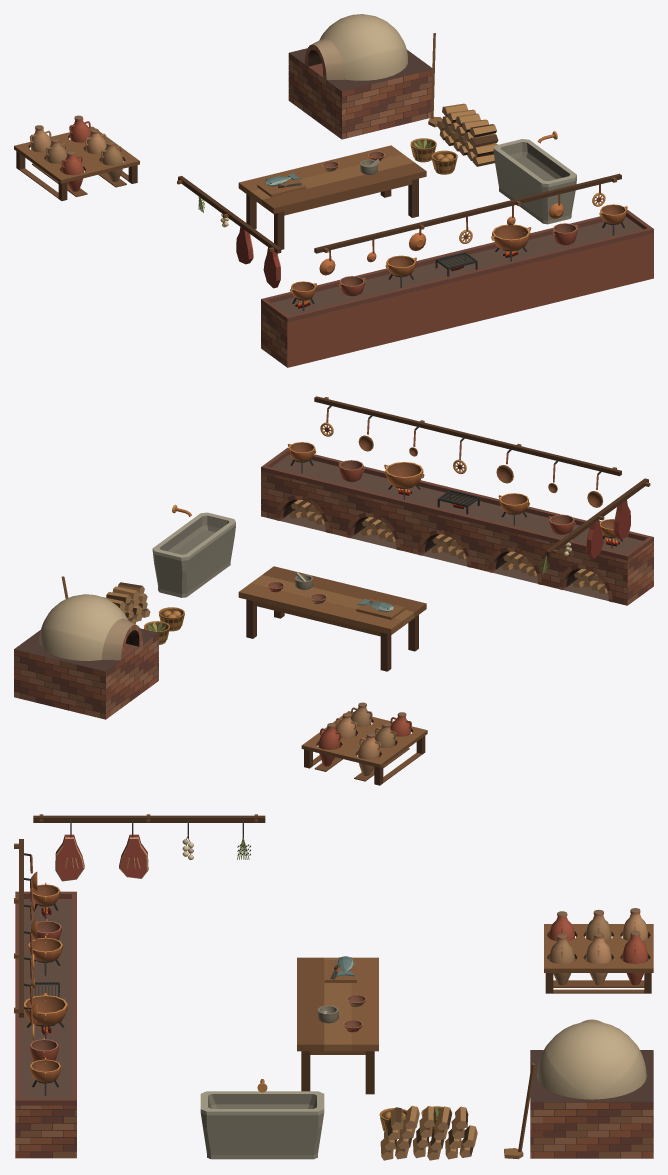
The model's file is rome_tr_fit_S09.glb.
The picture shows the model from 3 angles, top to bottom: view 1: azimuth 30°, elevation 25°; view 2: azimuth 150°, elevation 25°; view 3: azimuth 270°, elevation 25°; orthographic projection. The views are drawn at different scales.
Visible parts, largest first — view 1: room_S09; view 2: room_S09; view 3: room_S09.
Boxes of the visible parts, <box> form: room_S09: <box>14,14,653,367</box>; room_S09: <box>14,396,653,785</box>; room_S09: <box>14,814,653,1160</box>.
Bounding box in the file's own units: 7.48 × 2.13 × 9.32.
